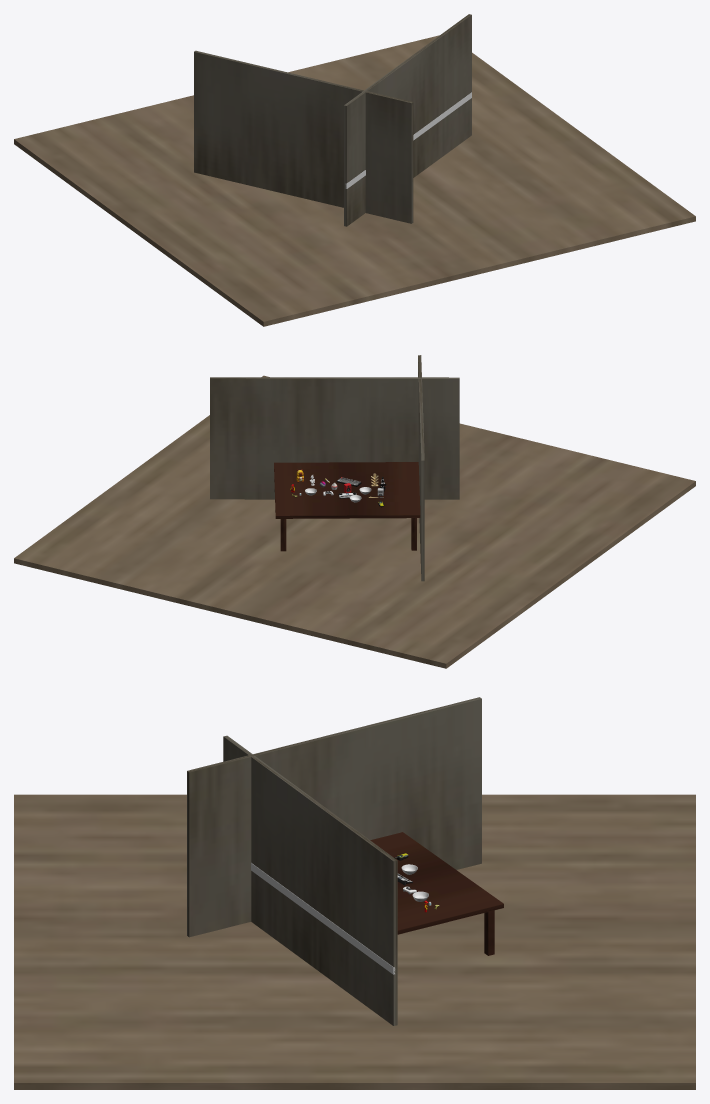
Rendered from ours.glb.
3 renders of one model, top to bottom at view 1: azimuth 30°, elevation 25°; view 2: azimuth 150°, elevation 25°; view 3: azimuth 270°, elevation 25°, orthographic. The views are drawn at different scales.
Visible parts, largest first — view 1: floor_0, wall_1, wall_0, wall_0_baseboard; view 2: floor_0, wall_0, table_0, wall_1; view 3: floor_0, wall_1, wall_0, table_0, wall_0_baseboard.
Part boxes in pixels (left/top/right/bottom): floor_0: left=14, top=35, right=695, bottom=326; wall_1: left=194, top=50, right=413, bottom=223; wall_0: left=344, top=14, right=471, bottom=226; wall_0_baseboard: left=345, top=92, right=471, bottom=188; floor_0: left=14, top=375, right=695, bottom=668; wall_0: left=210, top=377, right=459, bottom=499; table_0: left=274, top=462, right=420, bottom=551; wall_1: left=418, top=355, right=424, bottom=581; floor_0: left=14, top=794, right=695, bottom=1089; wall_1: left=187, top=697, right=481, bottom=937; wall_0: left=223, top=735, right=397, bottom=1025; table_0: left=370, top=832, right=503, bottom=955; wall_0_baseboard: left=251, top=863, right=395, bottom=974.
Size of the model in its own units: 9 by 2.5 by 9.
25 materials, 25 textured.
